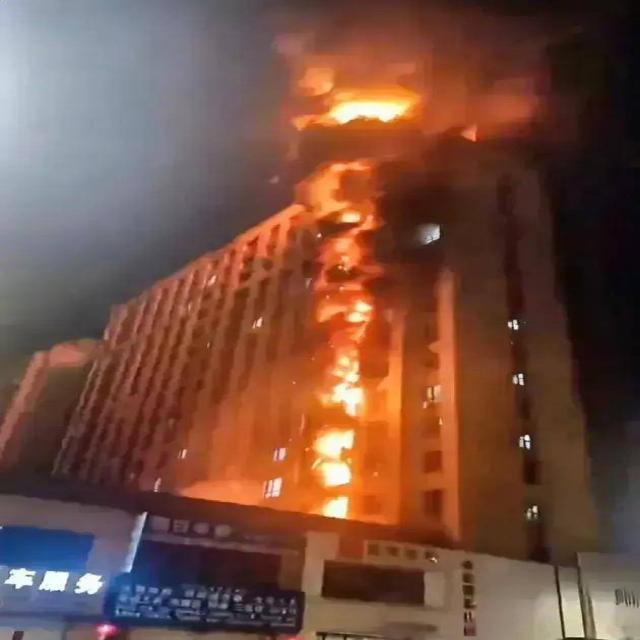Fire: (306, 429, 355, 519), (326, 95, 412, 126), (324, 358, 366, 418)
